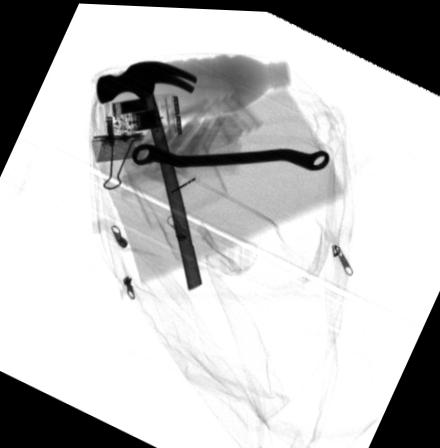Hammer: (95, 59, 201, 290)
Wrench: (132, 140, 330, 168)
